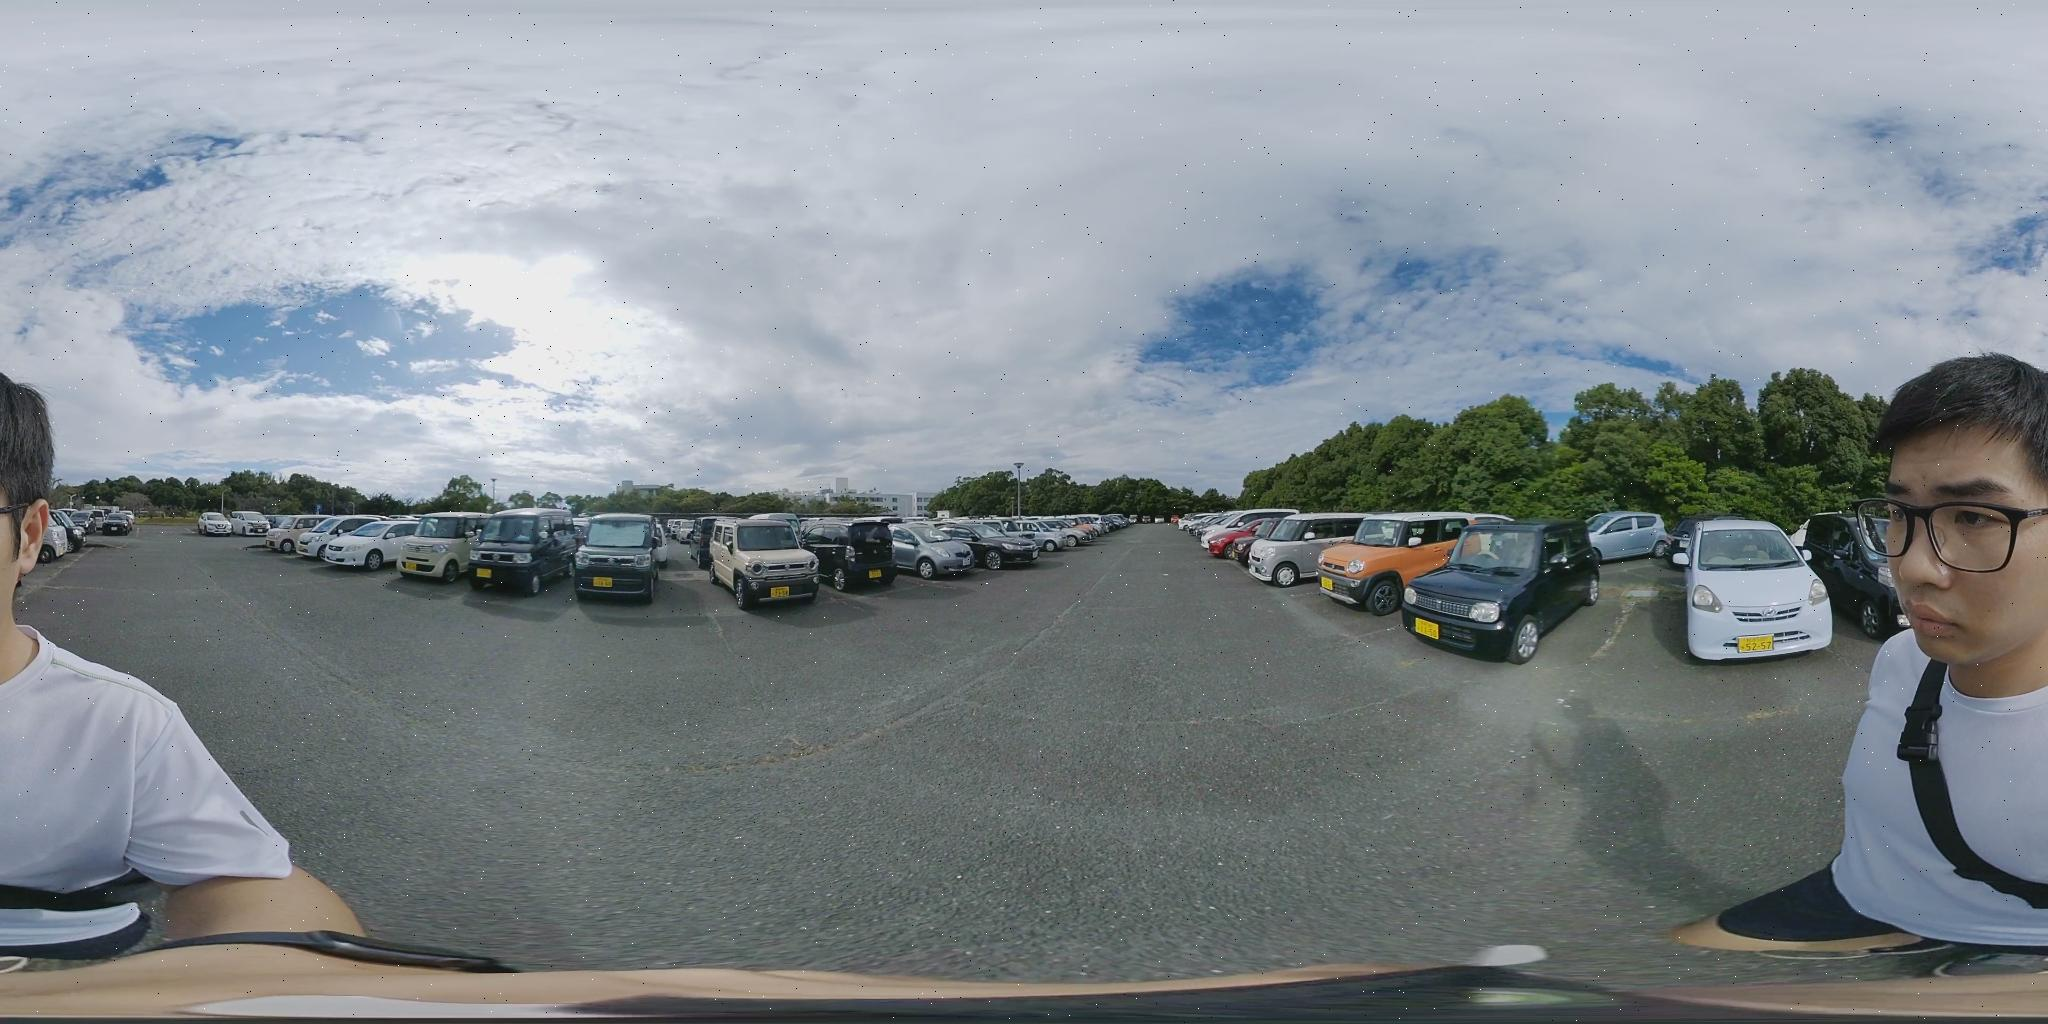car: (1399, 517, 1604, 665), (1254, 508, 1519, 602), (1674, 520, 1835, 664), (711, 517, 815, 610), (576, 511, 658, 611), (478, 509, 573, 589), (806, 515, 899, 596), (393, 511, 492, 581), (327, 516, 434, 569), (1190, 512, 1292, 559), (1582, 512, 1671, 562), (899, 528, 982, 579), (48, 511, 91, 556), (76, 507, 132, 533), (197, 512, 247, 534)
